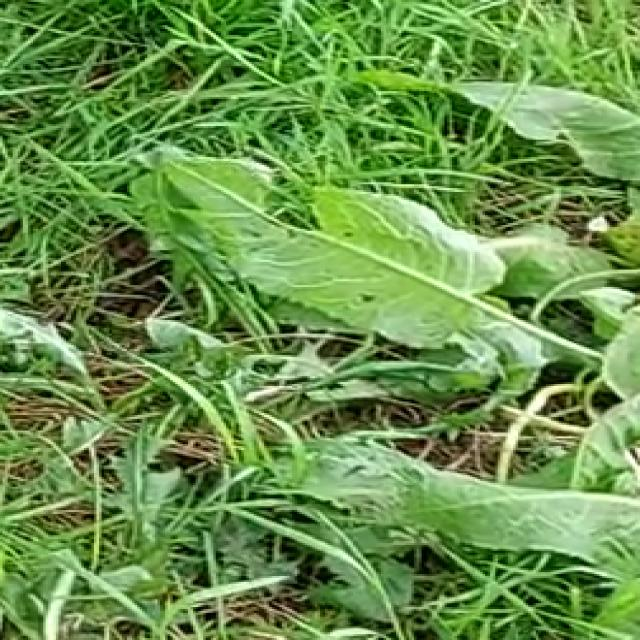organic waste: (81, 76, 635, 582)
